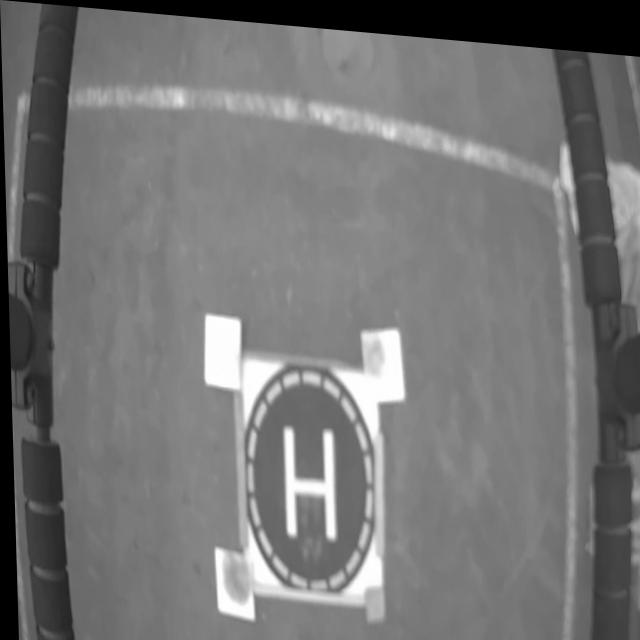Helipad: (282, 423, 334, 534)
